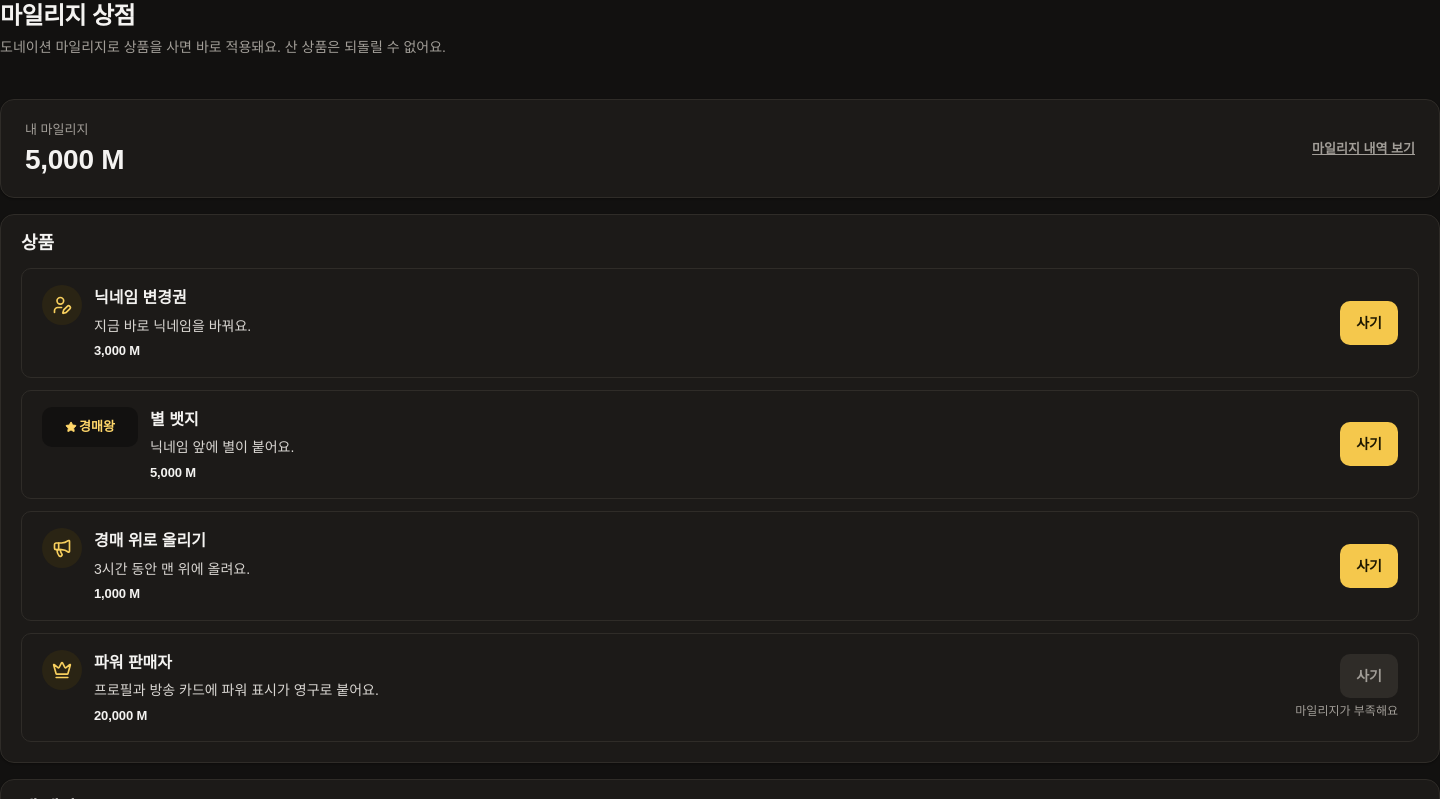
Scenario: ShopPage › 경매 위로 올리기는 내 경매를 골라 올리고, 언제까지 올라가는지 알려 준다
Click the button with aria-label "경매 위로 올리기 사기".
click(1369, 566)  # box x1=1340 y1=544 x2=1398 y2=588
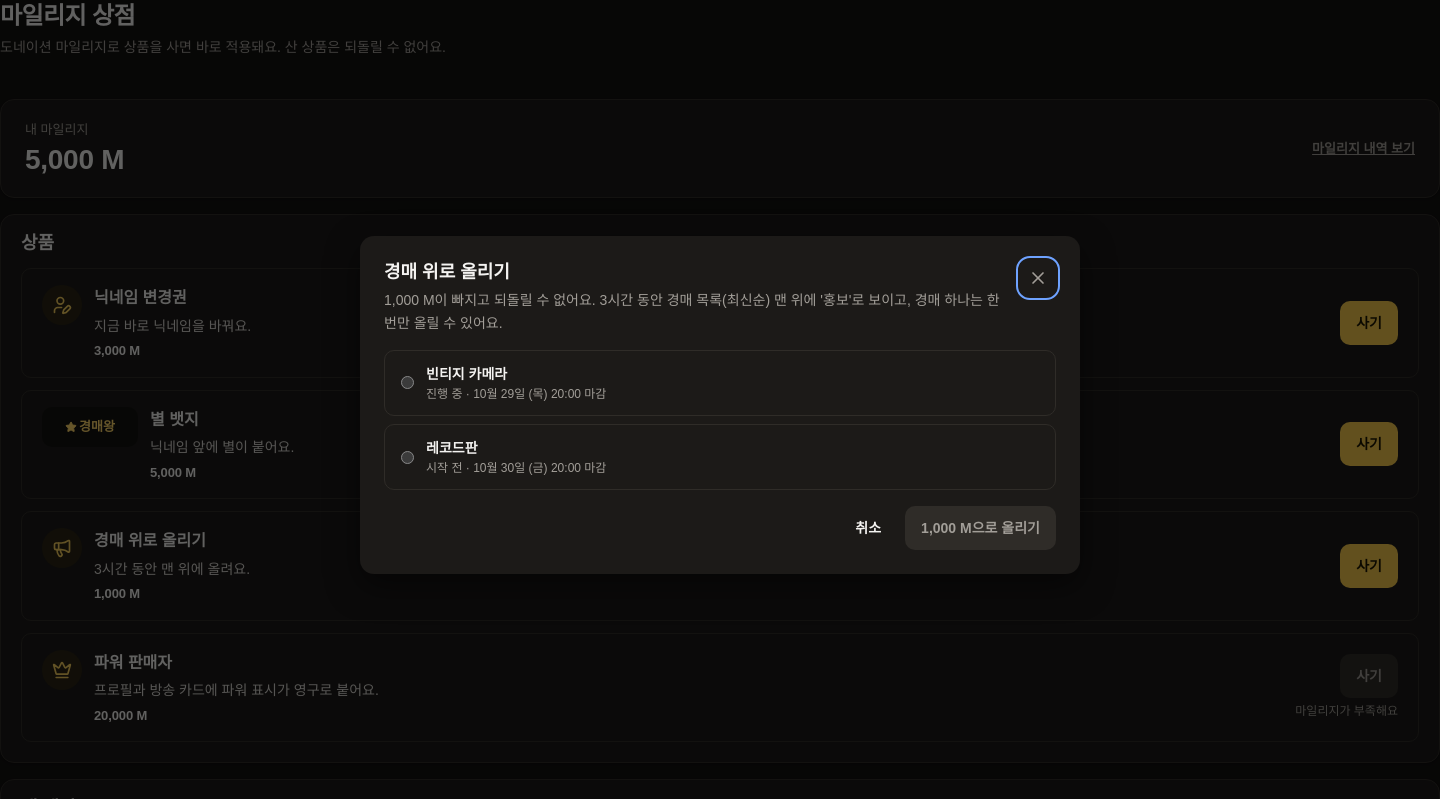
Expected: the button "1,000 M으로 올리기" is disabled, x1=905 y1=506 x2=1056 y2=550
Click the radio button labelled "레코드판 시작 전 · 10월 30일 (금) 20:00 마감".
click(408, 457)  # box x1=401 y1=451 x2=414 y2=464
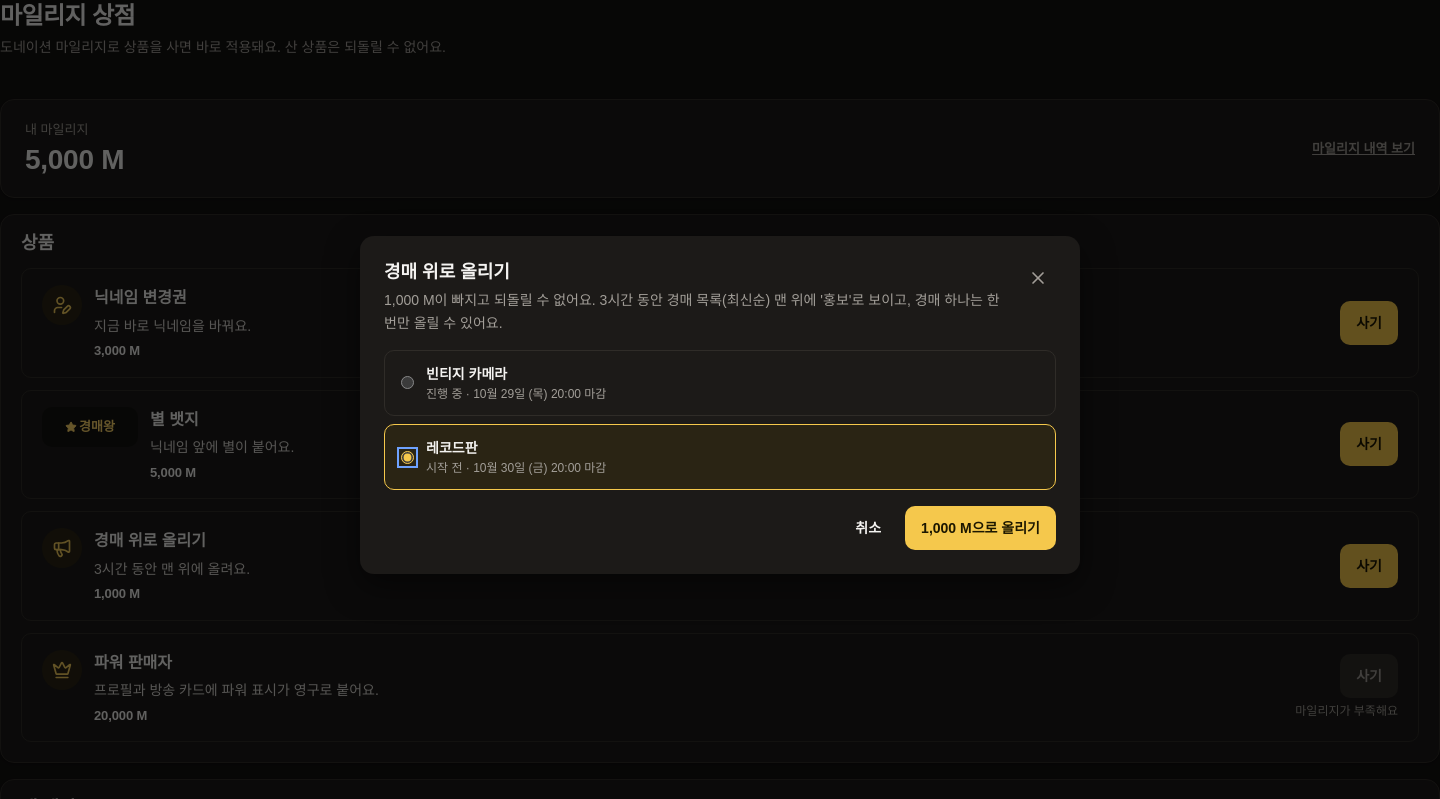
Click the button "1,000 M으로 올리기".
click(981, 528)  # box x1=905 y1=506 x2=1056 y2=550
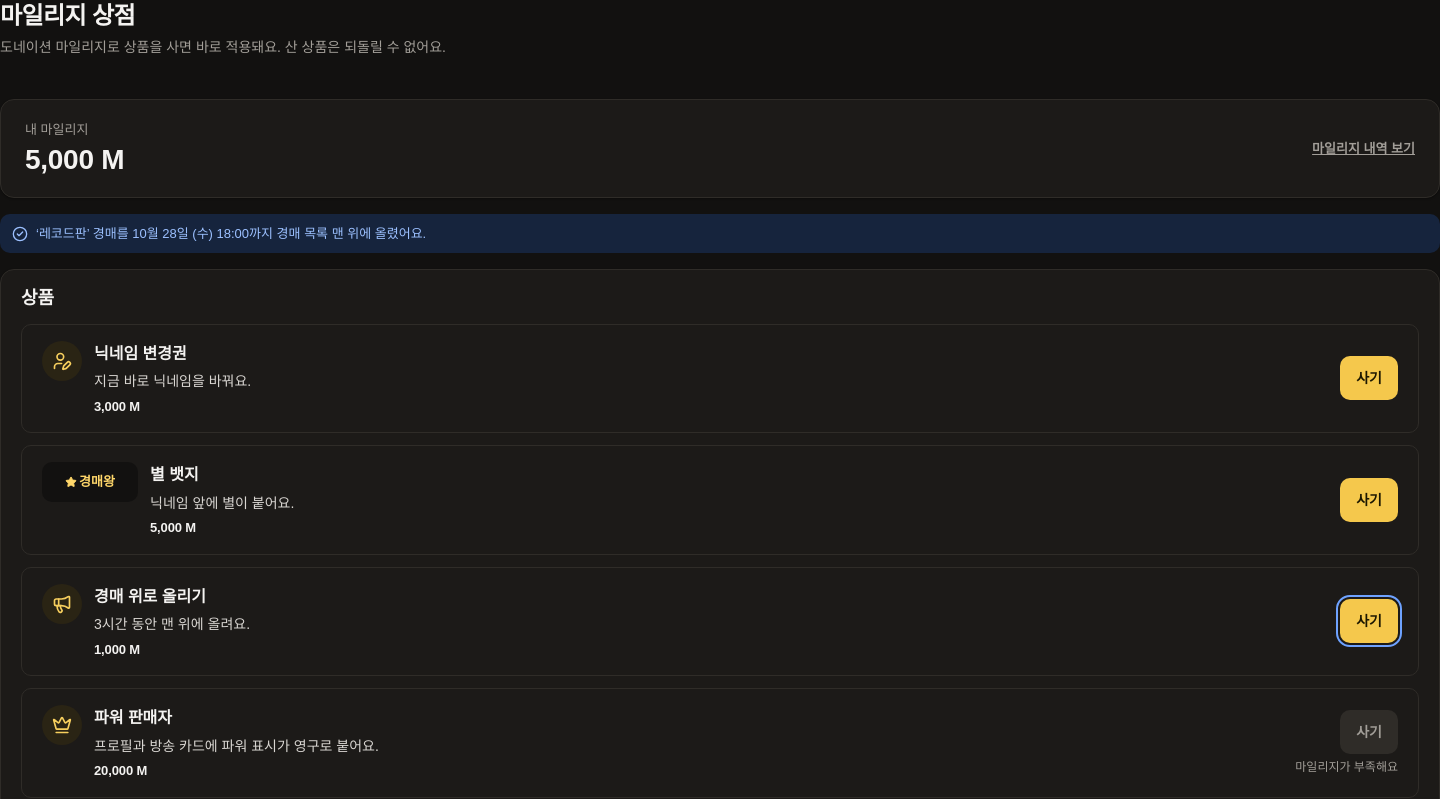
Expected: the text "‘레코드판’ 경매를 10월 28일 (수) 18:00까지 경매 목록 맨 위에 올렸어요." is shown, x1=36 y1=224 x2=426 y2=243
